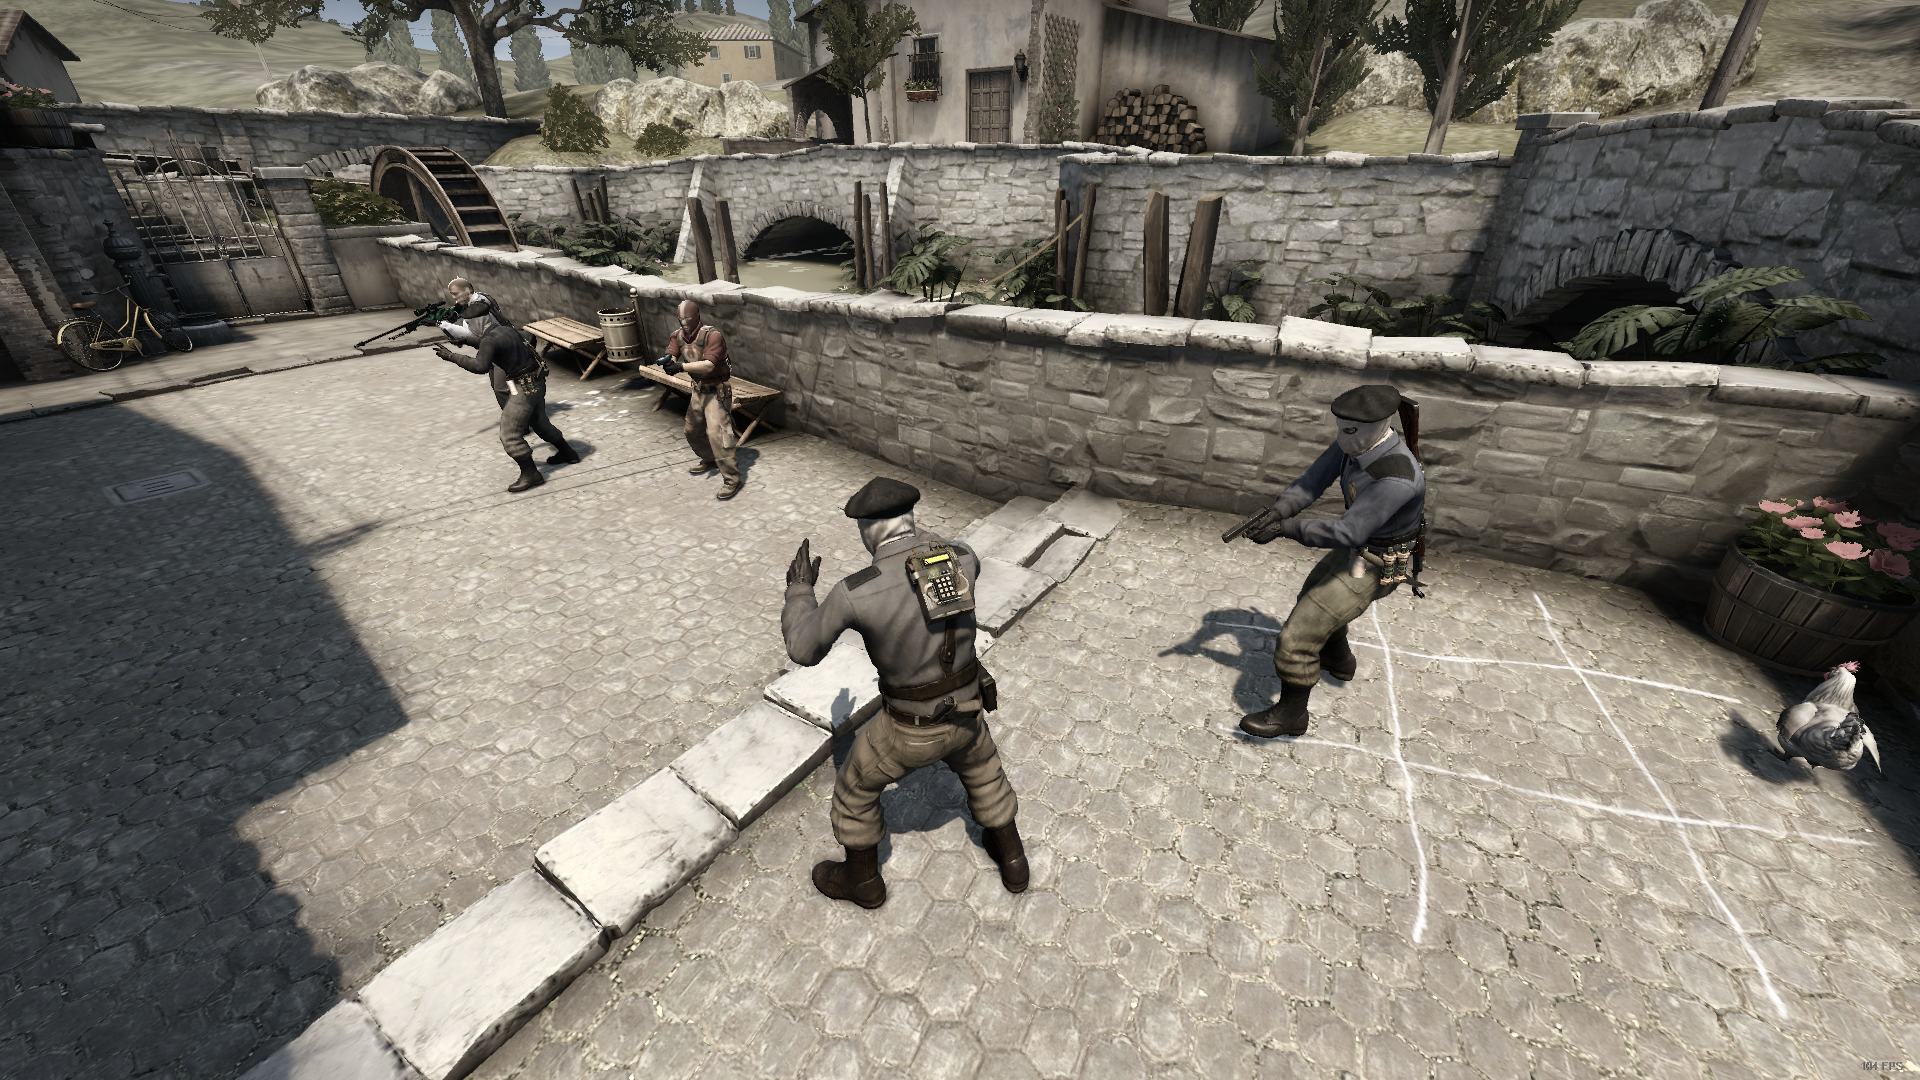t: (771, 465, 1056, 919), (1234, 378, 1447, 778)
